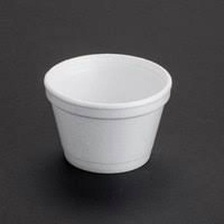paper_cup: (37, 47, 176, 177)
